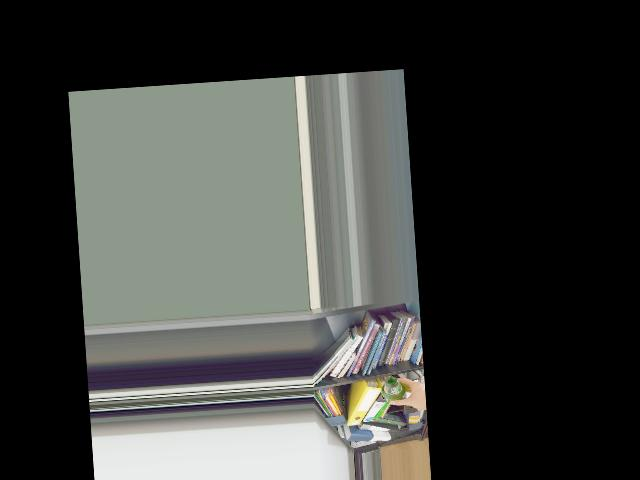beer: (380, 376, 405, 403)
